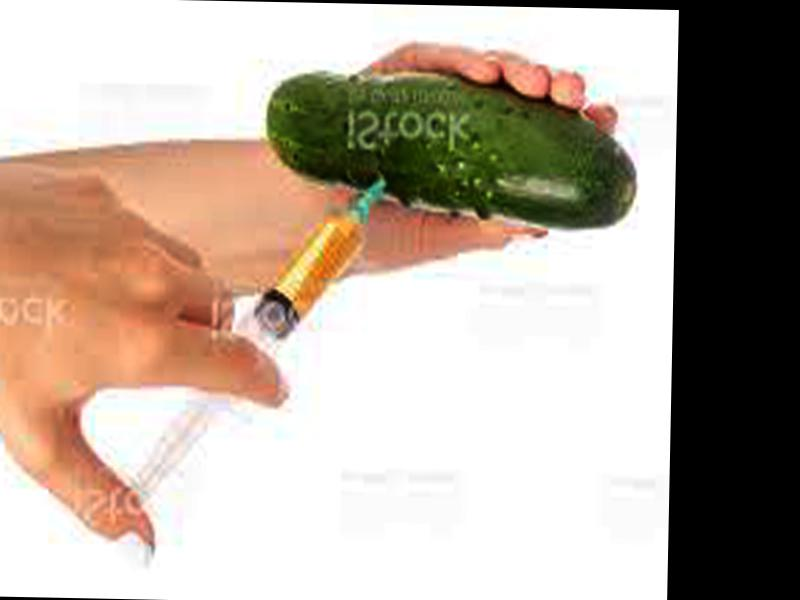Cucumber: (265, 79, 641, 229)
